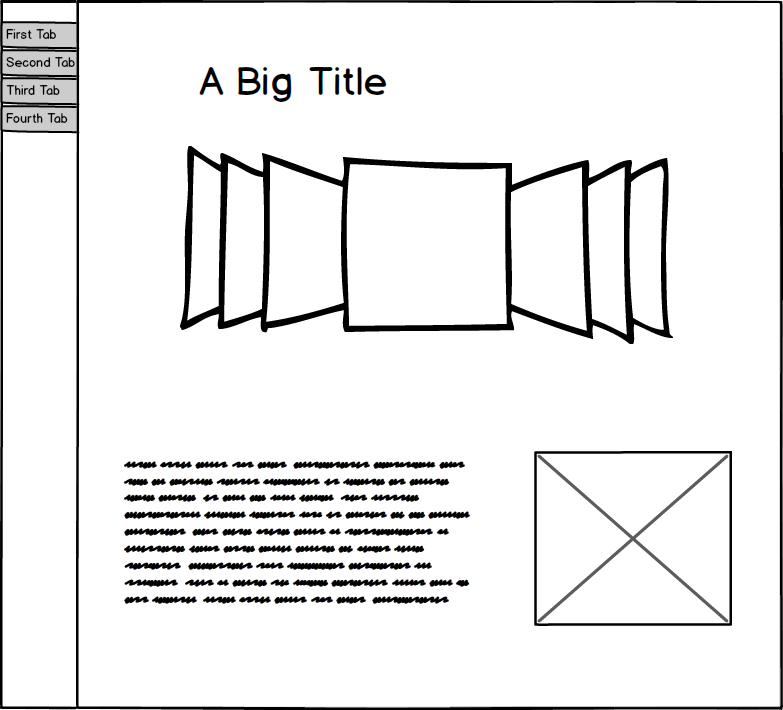h1: (191, 56, 398, 108)
image: (526, 447, 738, 629)
navlink: (3, 17, 87, 139)
p: (120, 453, 477, 617)
slideshow: (174, 139, 687, 353)
